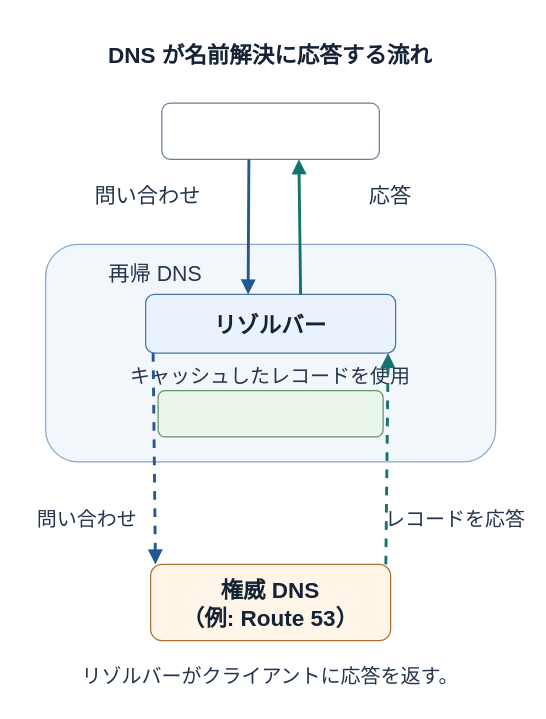
This 546x719 diagram has some shape labels left out. Here are the shapes that lost their labels. From the top down, the centre of each, then its label:
(270,130): DNS クライアント
(270,413): キャッシュ
